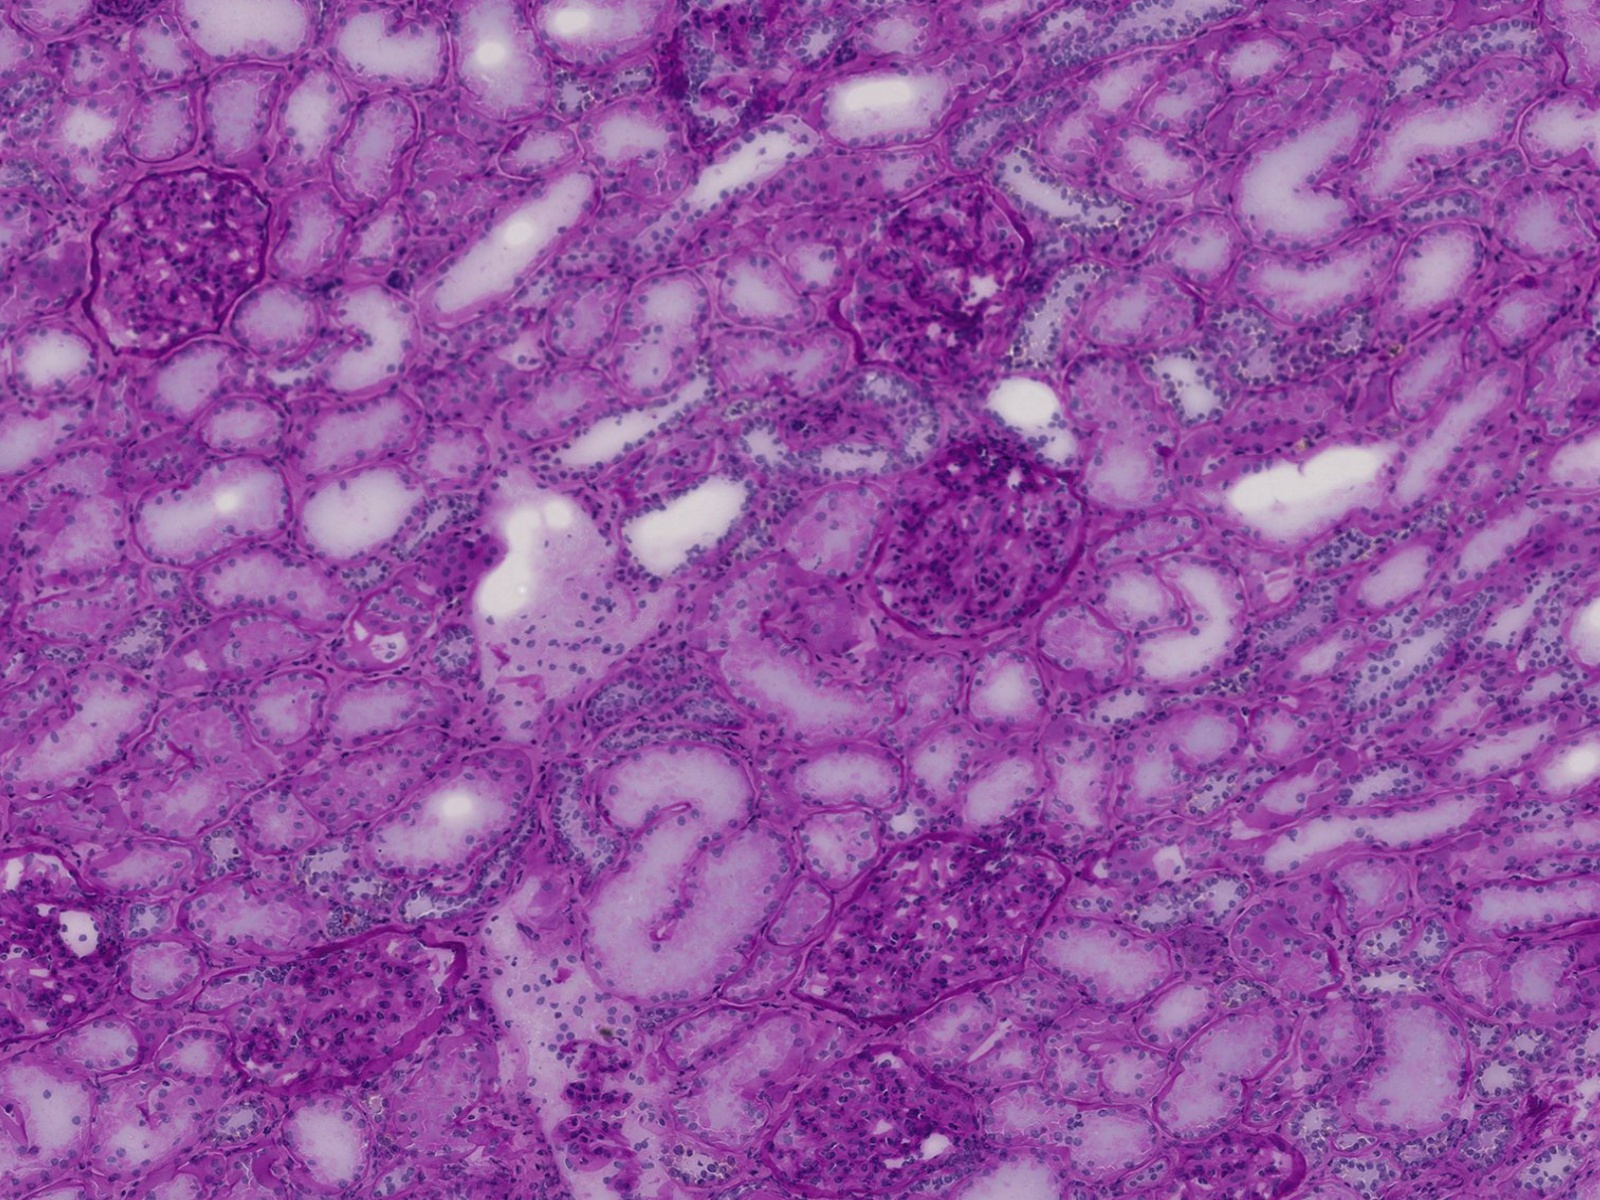Glomeruli: (795, 829, 1086, 1017), (862, 435, 1101, 644), (830, 179, 1044, 379), (77, 164, 286, 364), (233, 923, 474, 1088), (752, 1046, 991, 1200), (1, 829, 136, 1053), (1123, 1126, 1318, 1200)
